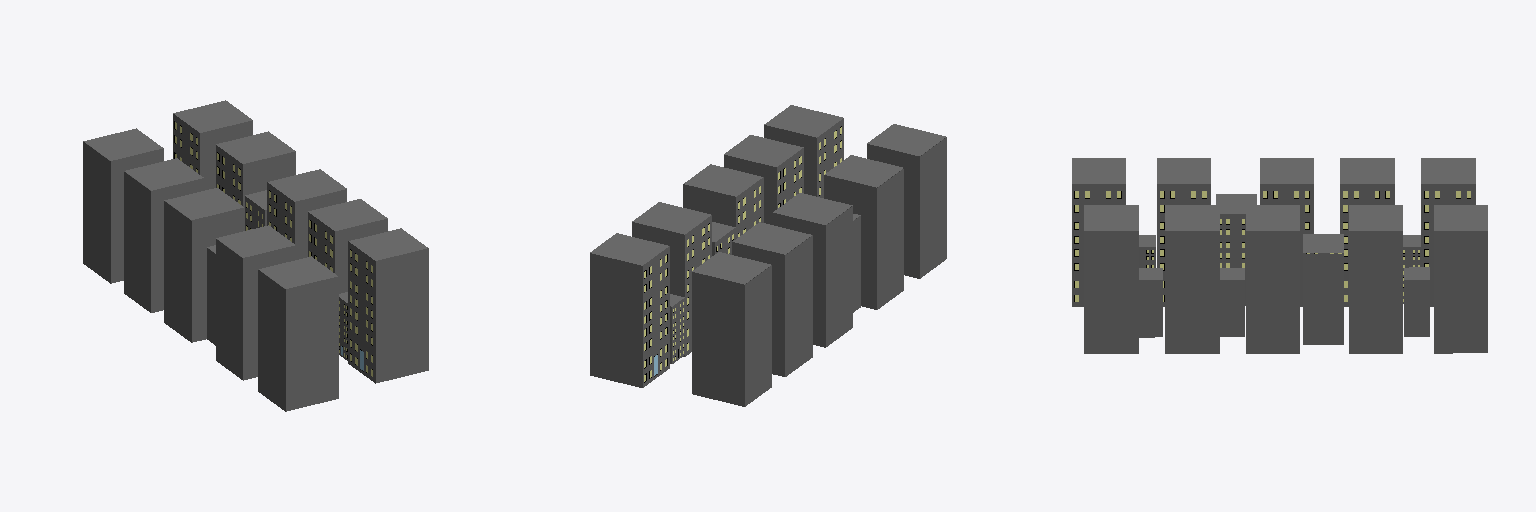
3 renders of one model, left to right at view 1: azimuth 30°, elevation 25°; view 2: azimuth 150°, elevation 25°; view 3: azimuth 270°, elevation 25°, orthographic.
Visible parts, largest first — view 1: Cube.004; view 2: Cube.004; view 3: Cube.004.
Boxes of the visible parts, x1,y1,x2,y2 form: Cube.004: [83, 100, 428, 411]; Cube.004: [590, 105, 946, 406]; Cube.004: [1072, 158, 1487, 353].
Bounding box in the file's own units: 58.8 × 46.1 × 142.
18 materials, 1 textured.